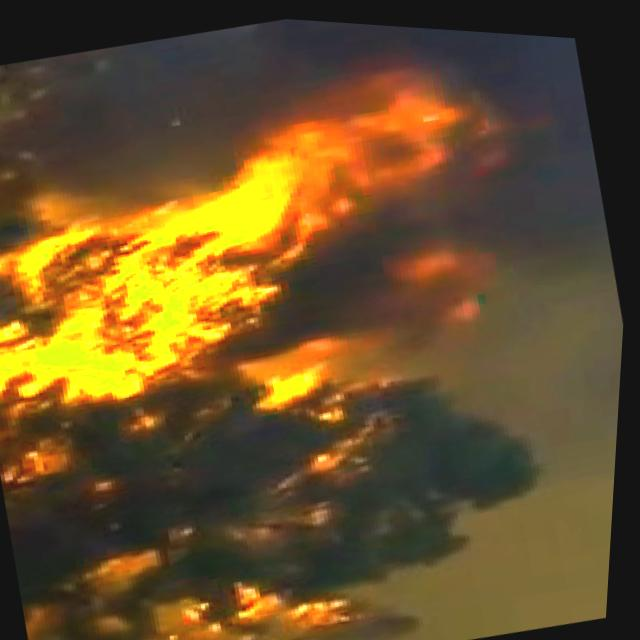fire: (0, 67, 474, 439)
